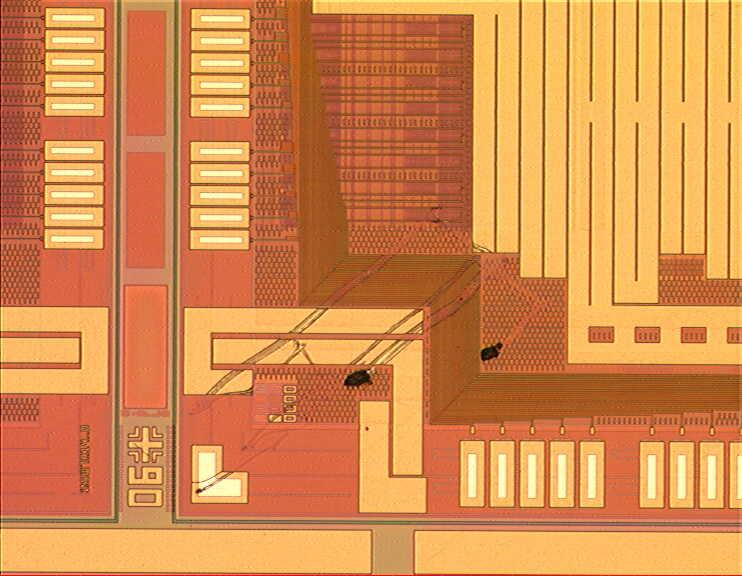SCRATCH: (182, 205, 557, 504)
